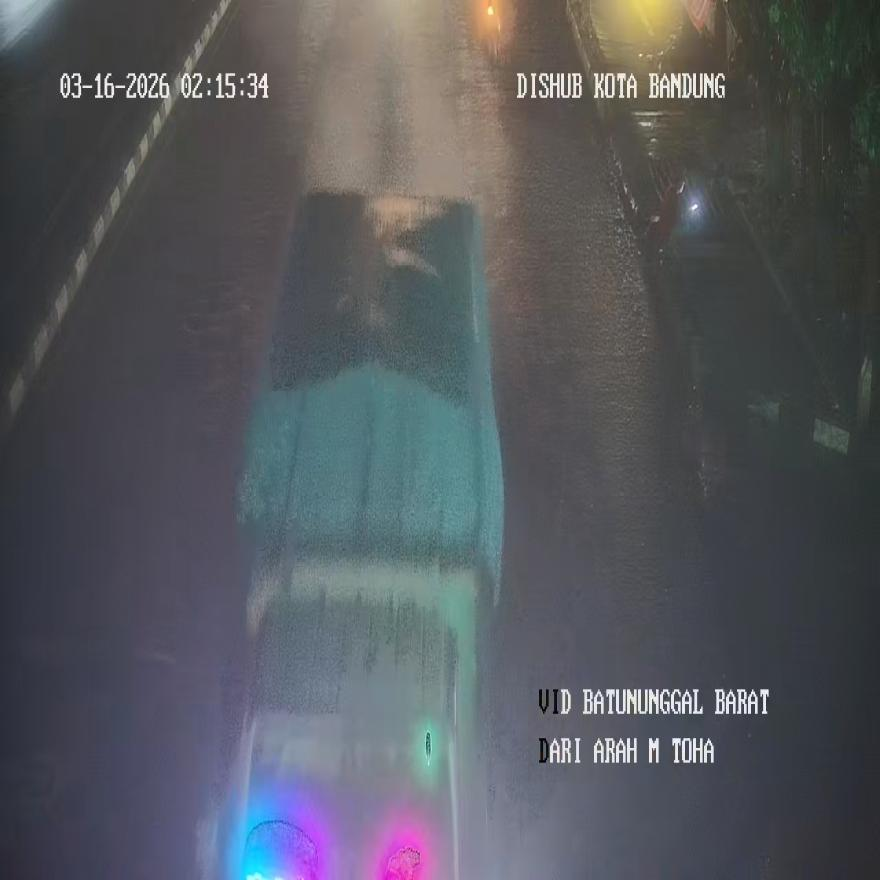Motor: (483, 0, 502, 61)
